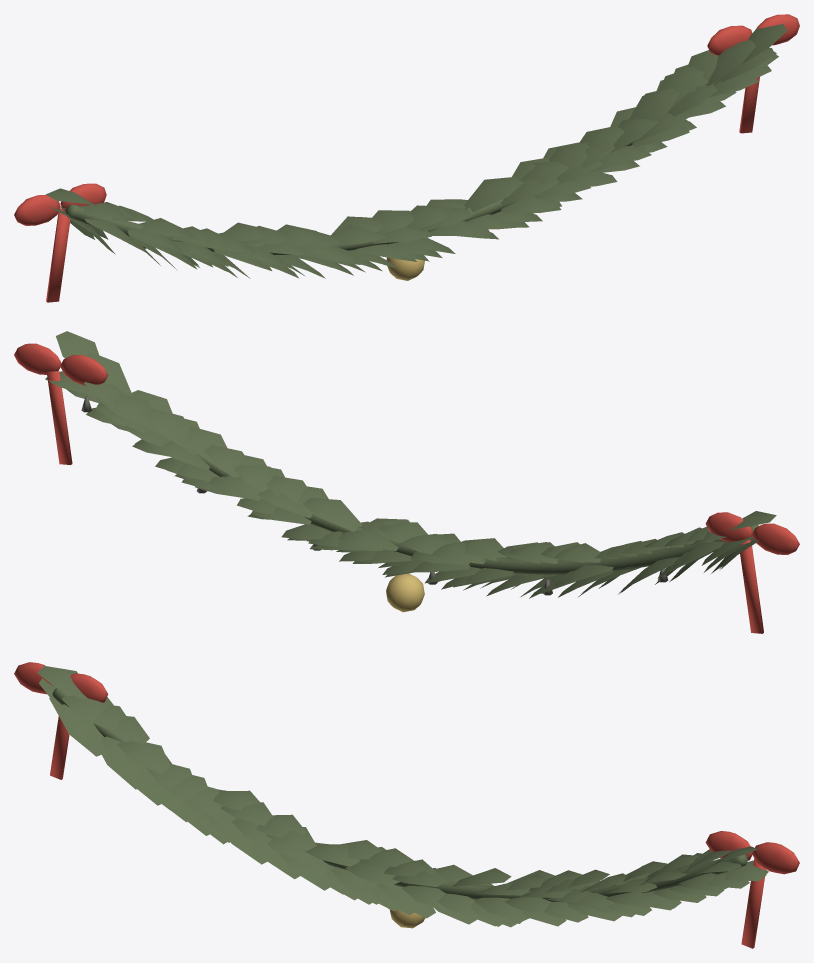
The model's file is garland.glb.
The picture shows the model from 3 angles, top to bottom: view 1: azimuth 30°, elevation 25°; view 2: azimuth 150°, elevation 25°; view 3: azimuth 330°, elevation 25°; orthographic projection.
Visible parts, largest first — view 1: garland; view 2: garland; view 3: garland.
Part boxes in pixels (x1,y1,x2,y2): garland: [14, 14, 799, 302]; garland: [14, 331, 799, 633]; garland: [14, 662, 799, 948].
Size of the model in its own units: 2.72 by 0.5842 by 0.2309.
